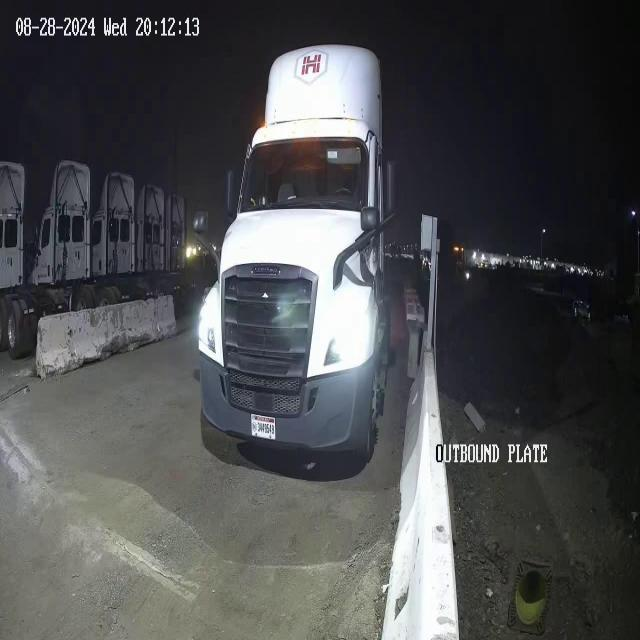TRUCK_OUT: (197, 42, 396, 471)
